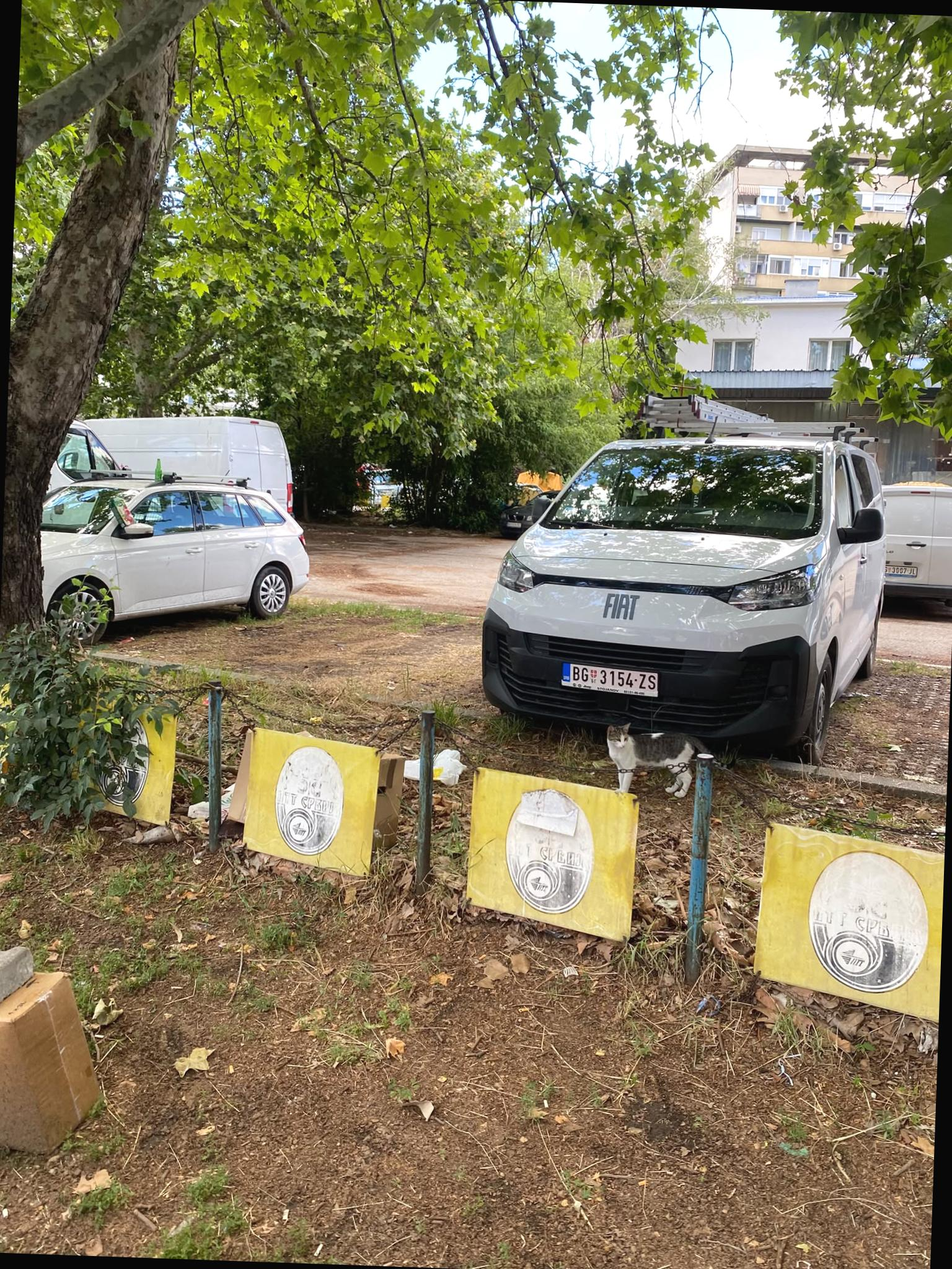macka: (604, 722, 694, 798)
